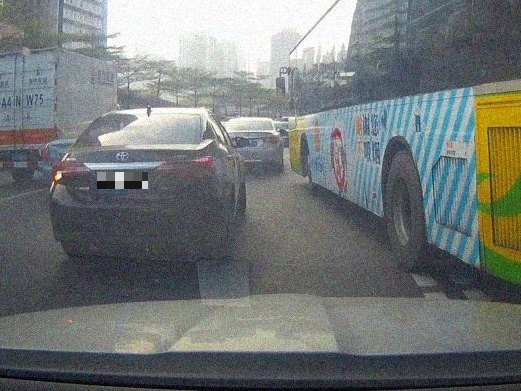L_light: (51, 161, 95, 186)
R_light: (156, 157, 212, 186)
T_light: (117, 141, 140, 146)
day-left: (48, 107, 215, 260)
plate_1: (97, 172, 148, 189)
